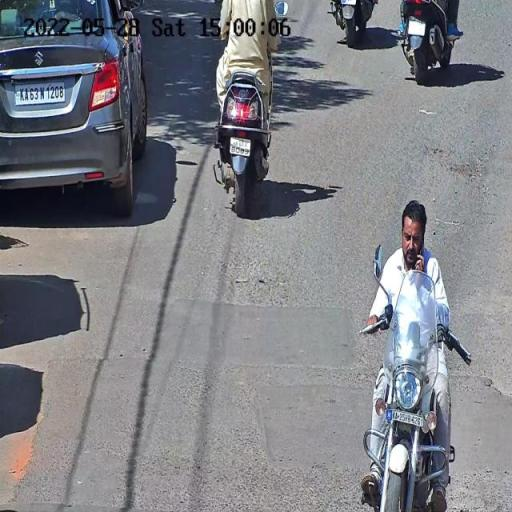numberplate: (386, 404, 427, 426)
using mobile: (410, 227, 430, 278)
